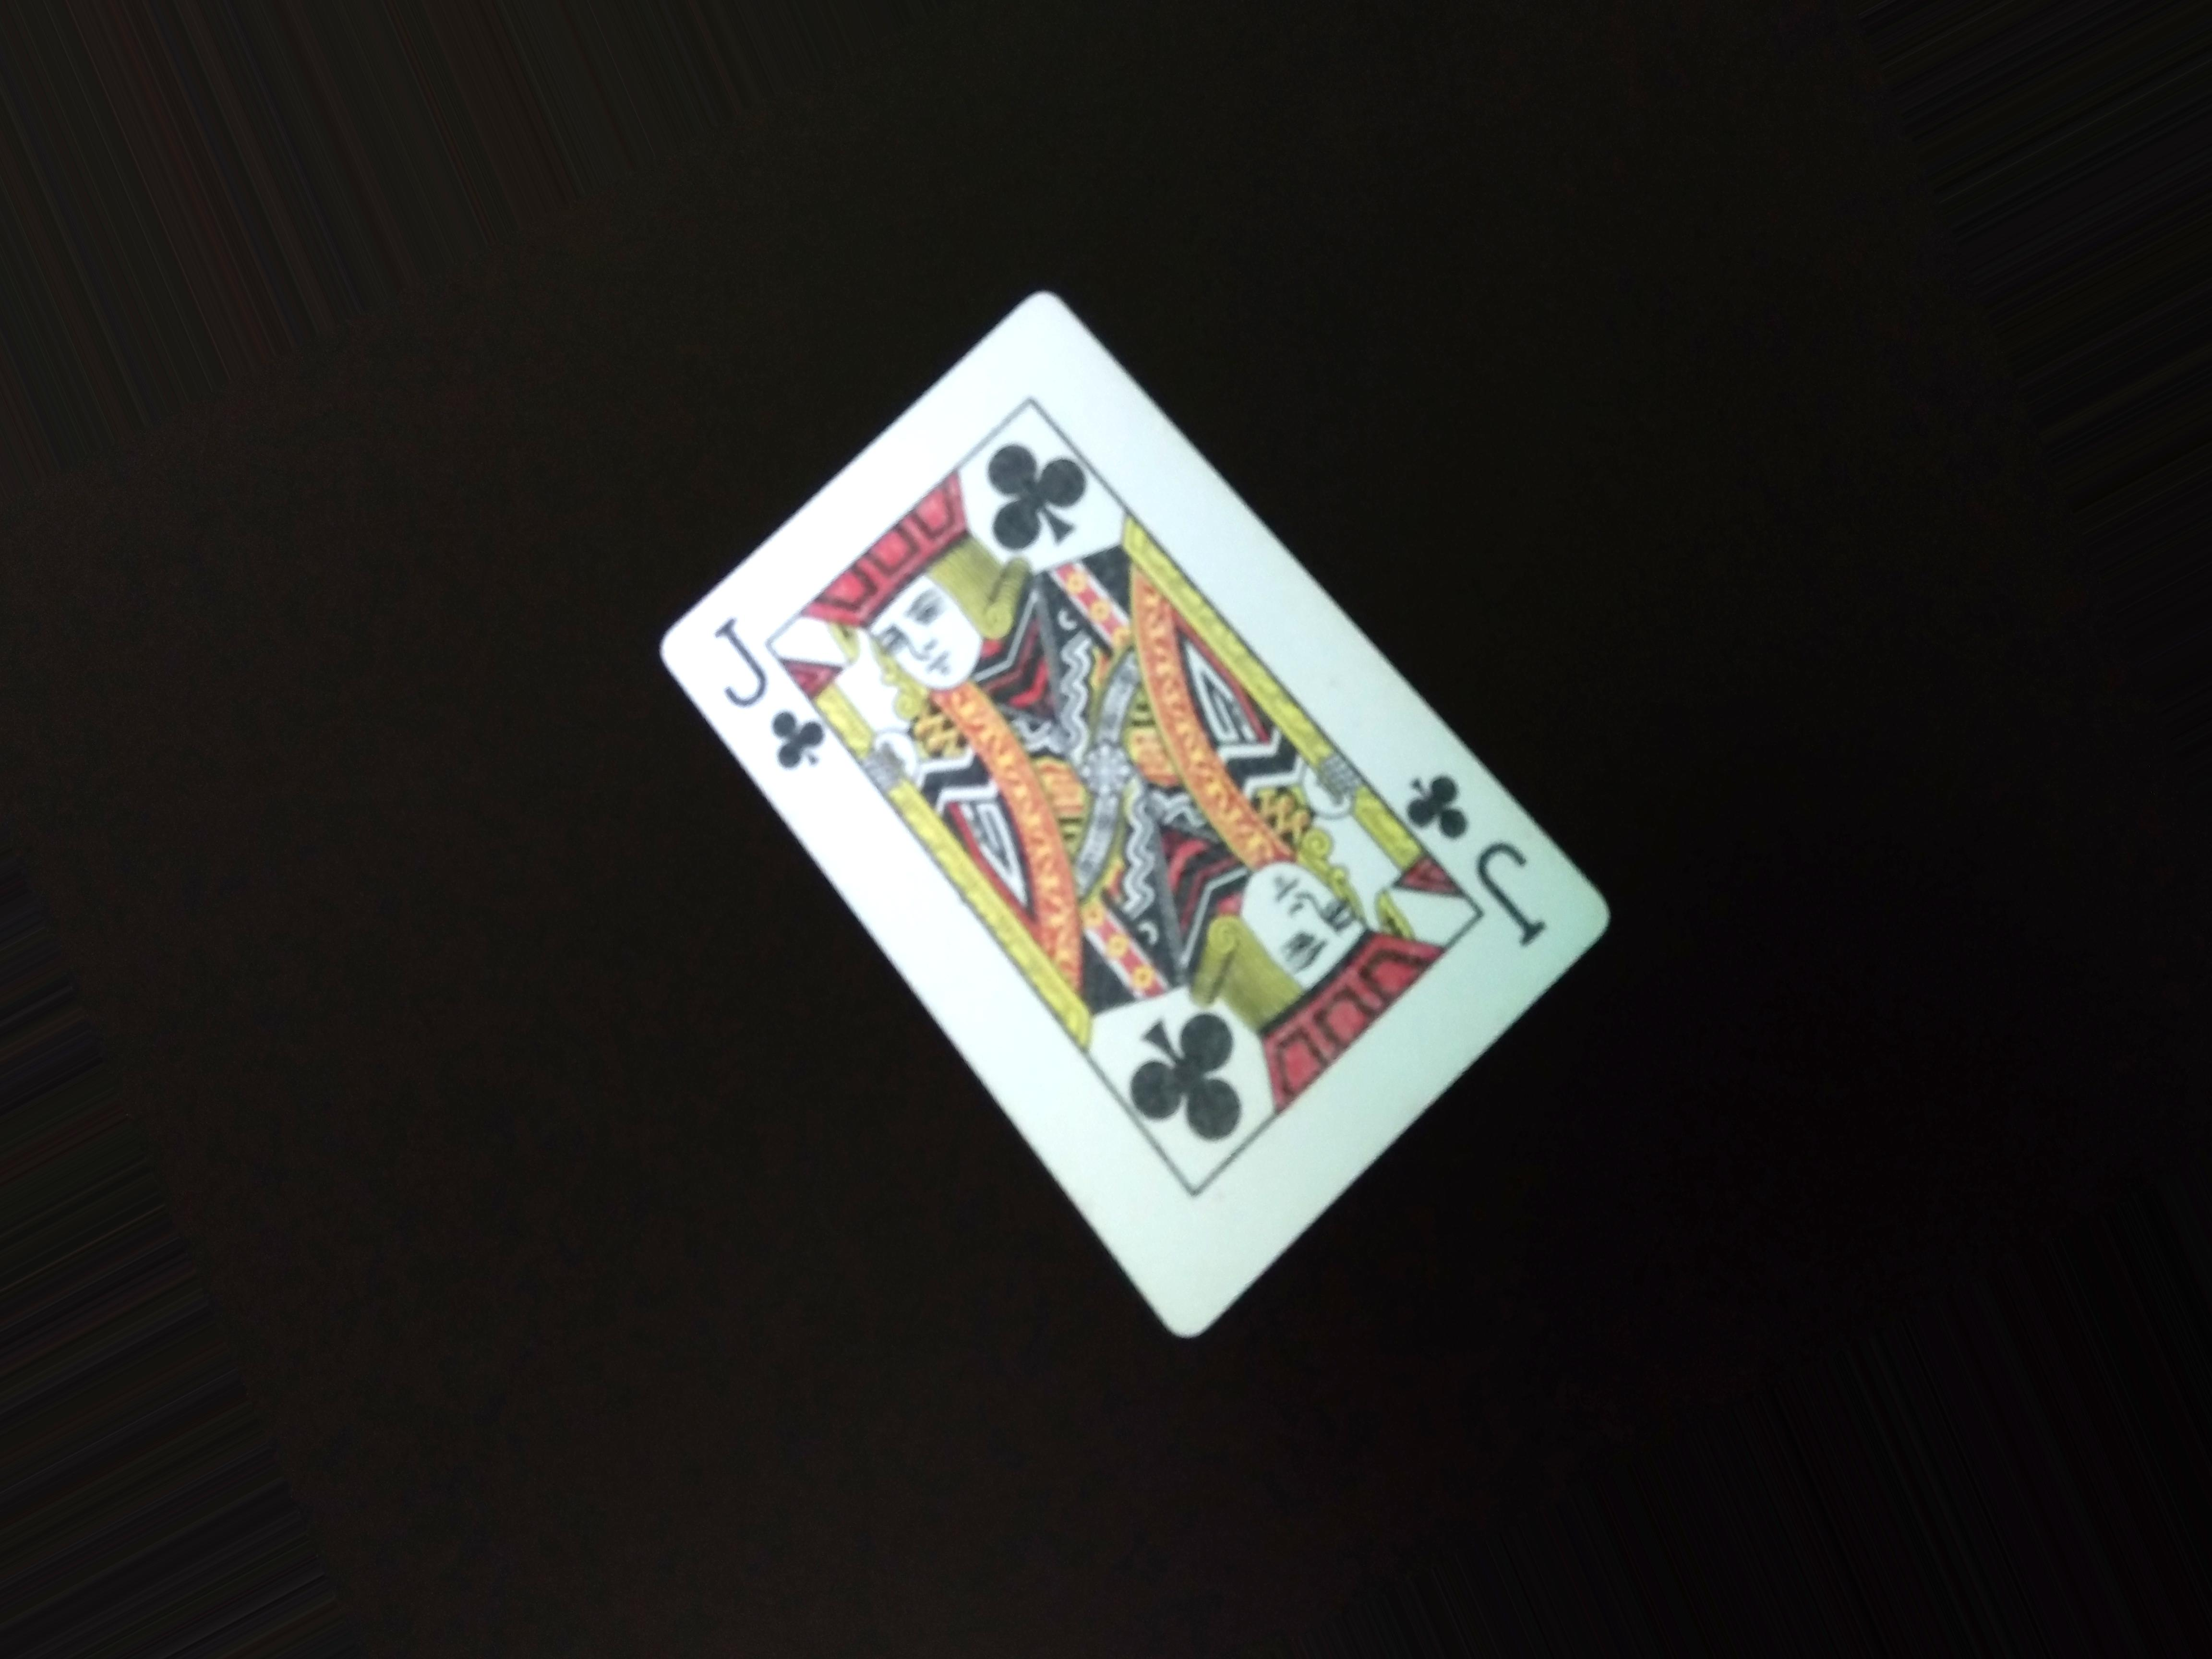JC: (1399, 763, 1573, 943)
